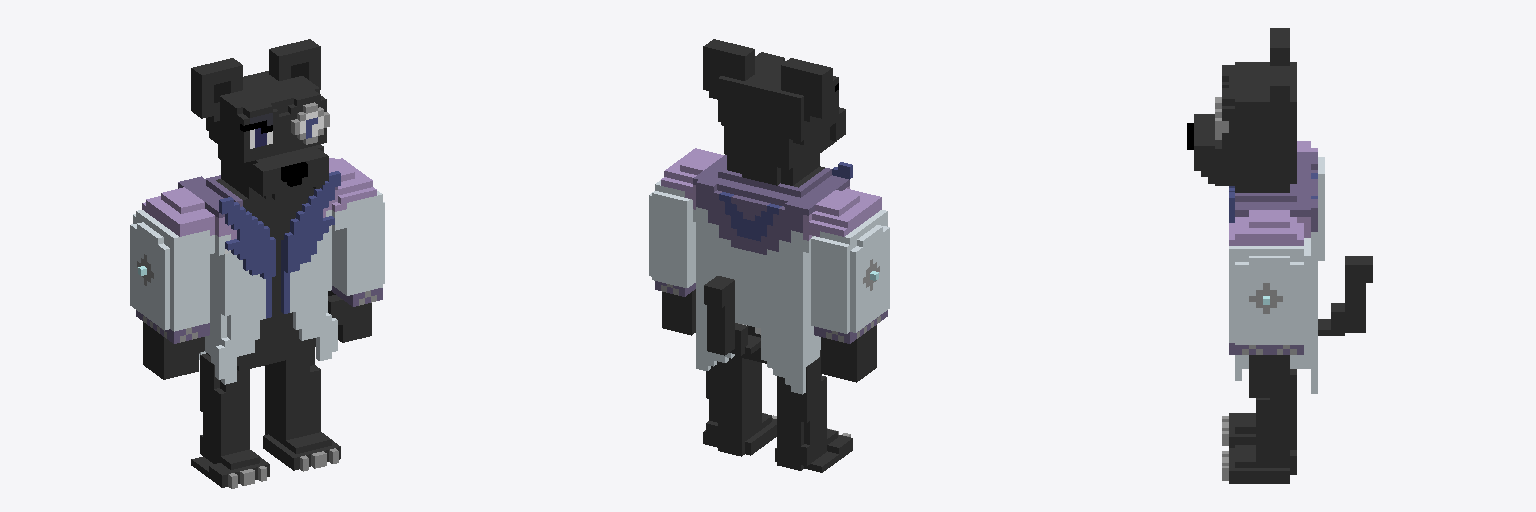
The picture shows the model from 3 angles: view 1: azimuth 30°, elevation 25°; view 2: azimuth 150°, elevation 25°; view 3: azimuth 270°, elevation 25°; orthographic projection.
Visible parts, largest first — view 1: object 1; view 2: object 1; view 3: object 1.
Part boxes in pixels (x1,y1,x2,y2): object 1: (130,39,384,488); object 1: (649,39,889,472); object 1: (1187,28,1372,483).
Size of the model in its own units: 3.8 by 6.4 by 2.7.
Materials: 1 (1 with a texture image).